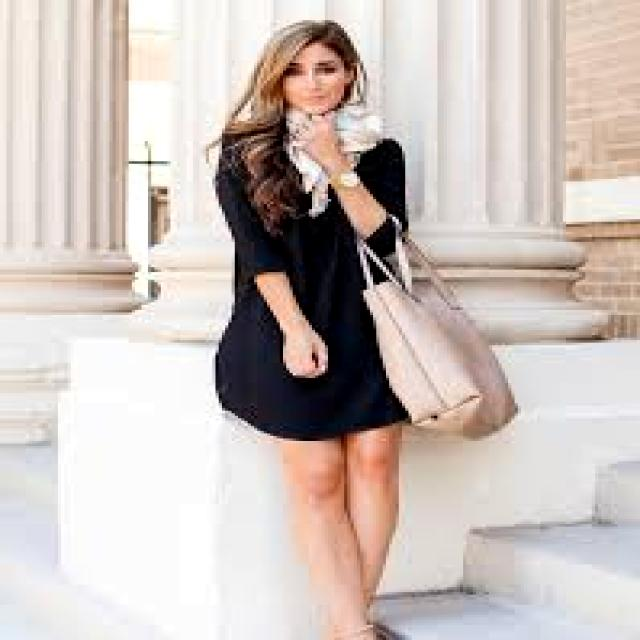dress: (216, 137, 408, 440)
